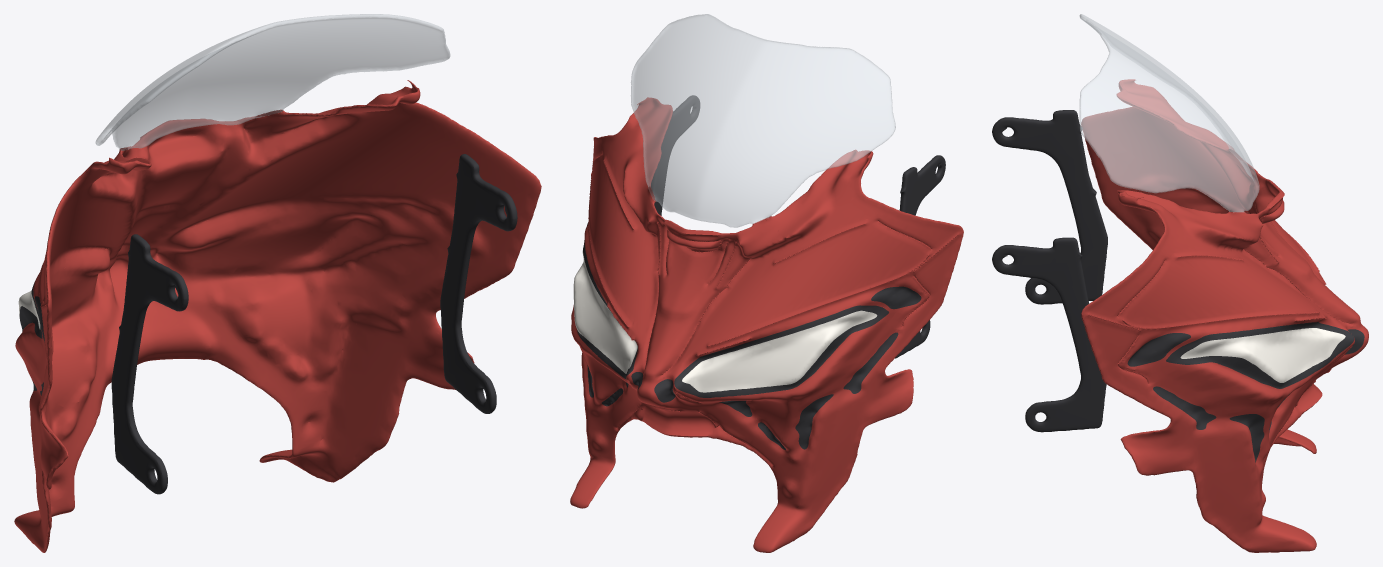
The model's file is naked_2.glb.
The picture shows the model from 3 angles, left to right: view 1: azimuth 30°, elevation 25°; view 2: azimuth 150°, elevation 25°; view 3: azimuth 270°, elevation 25°; orthographic projection. The views are drawn at different scales.
Visible parts, largest first — view 1: lod0; view 2: lod0; view 3: lod0.
Part boxes in pixels (x1,y1,x2,y2): lod0: (14, 14, 541, 552); lod0: (570, 14, 963, 552); lod0: (992, 14, 1368, 552).
Size of what is drawn, in the model's own units: 0.4165 by 0.4532 by 0.3459.
